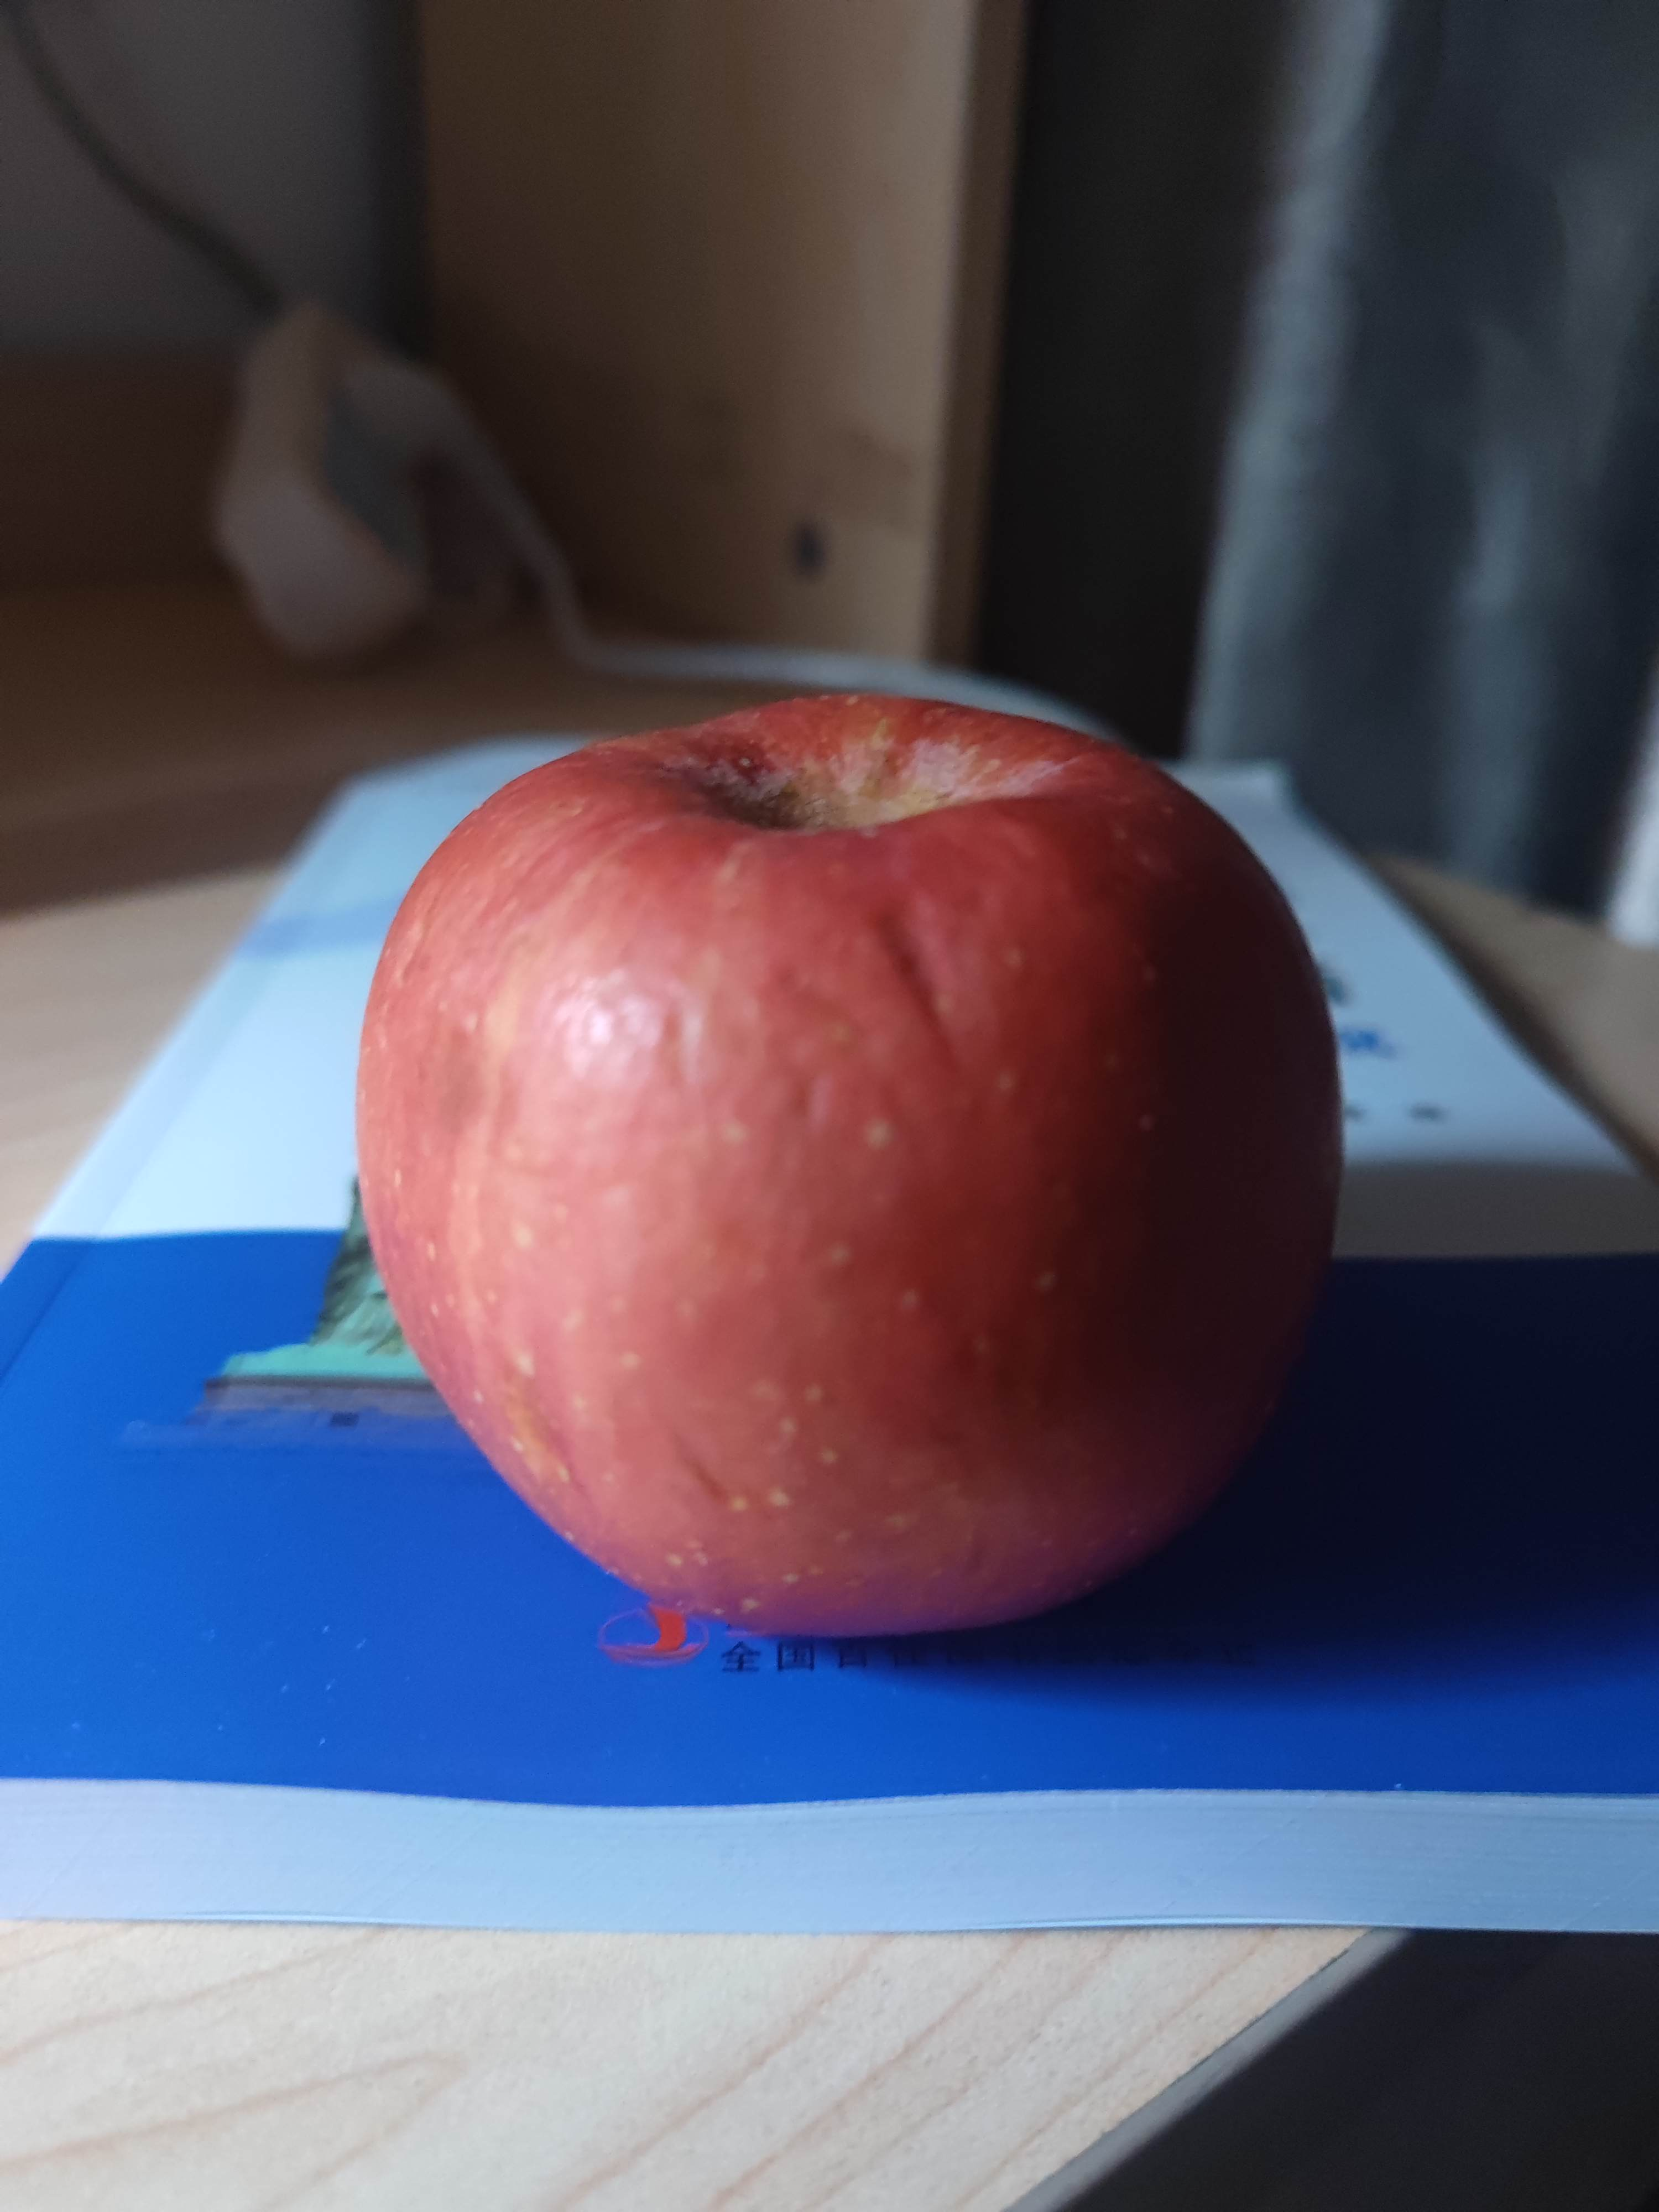apple: (359, 685, 1364, 1646)
